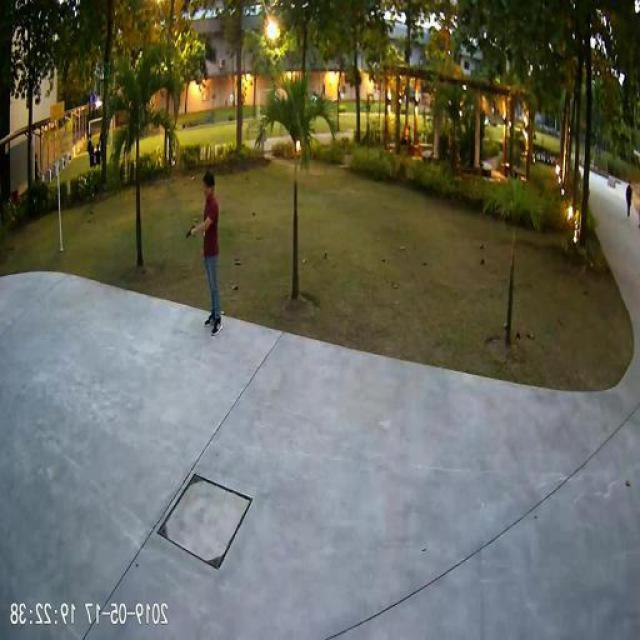weapon: (185, 226, 197, 240)
